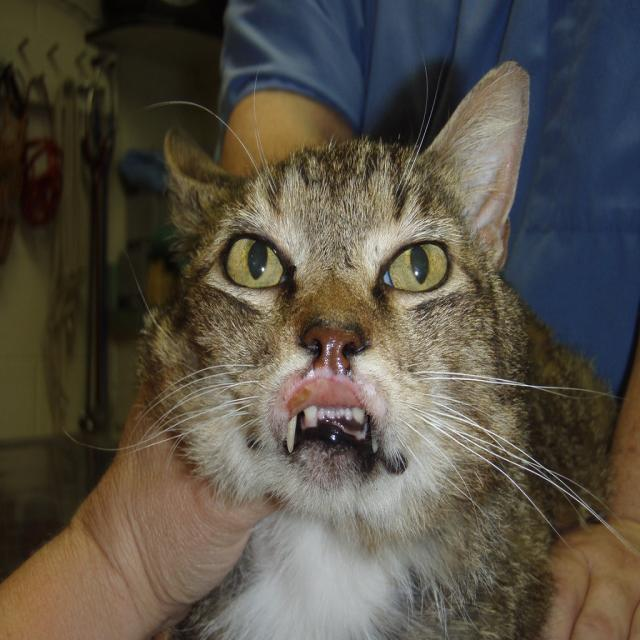cat-ulcer: (290, 367, 361, 415)
